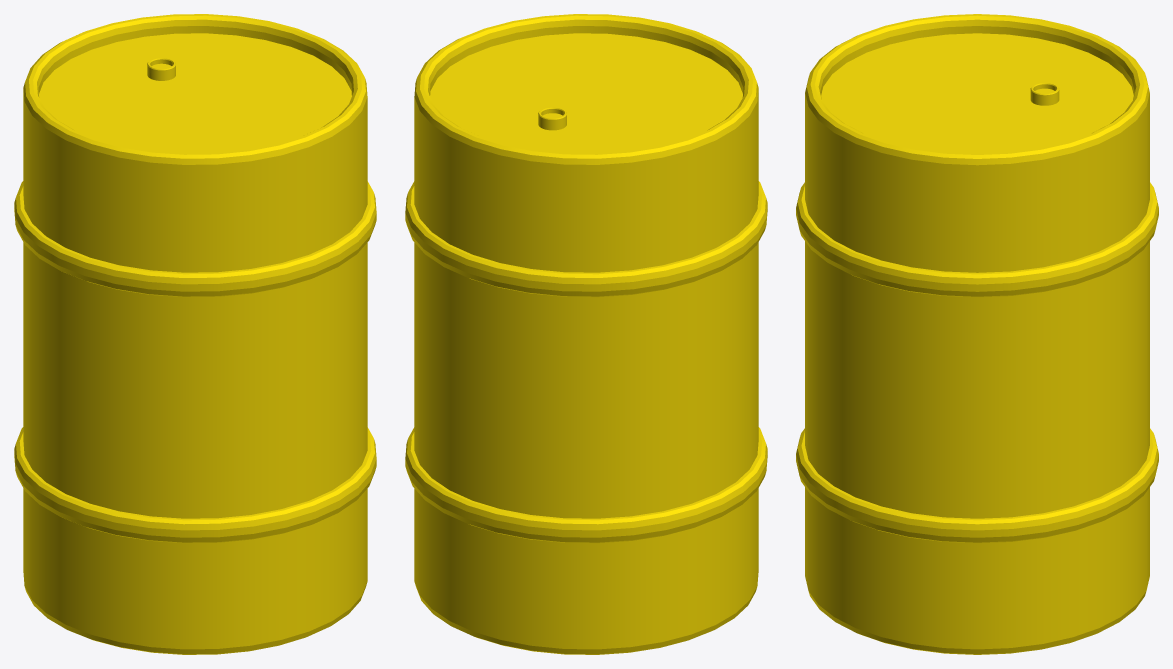
The model's file is barrel temp.fbx.
The picture shows the model from 3 angles, left to right: view 1: azimuth 30°, elevation 25°; view 2: azimuth 150°, elevation 25°; view 3: azimuth 270°, elevation 25°; orthographic projection.
Visible parts, largest first — view 1: Cylinder; view 2: Cylinder; view 3: Cylinder.
Boxes of the visible parts, bbox=[...] form: Cylinder: bbox=[14, 14, 376, 654]; Cylinder: bbox=[405, 14, 767, 654]; Cylinder: bbox=[796, 14, 1158, 654].
Size of the model in its own units: 105 by 160 by 105.
